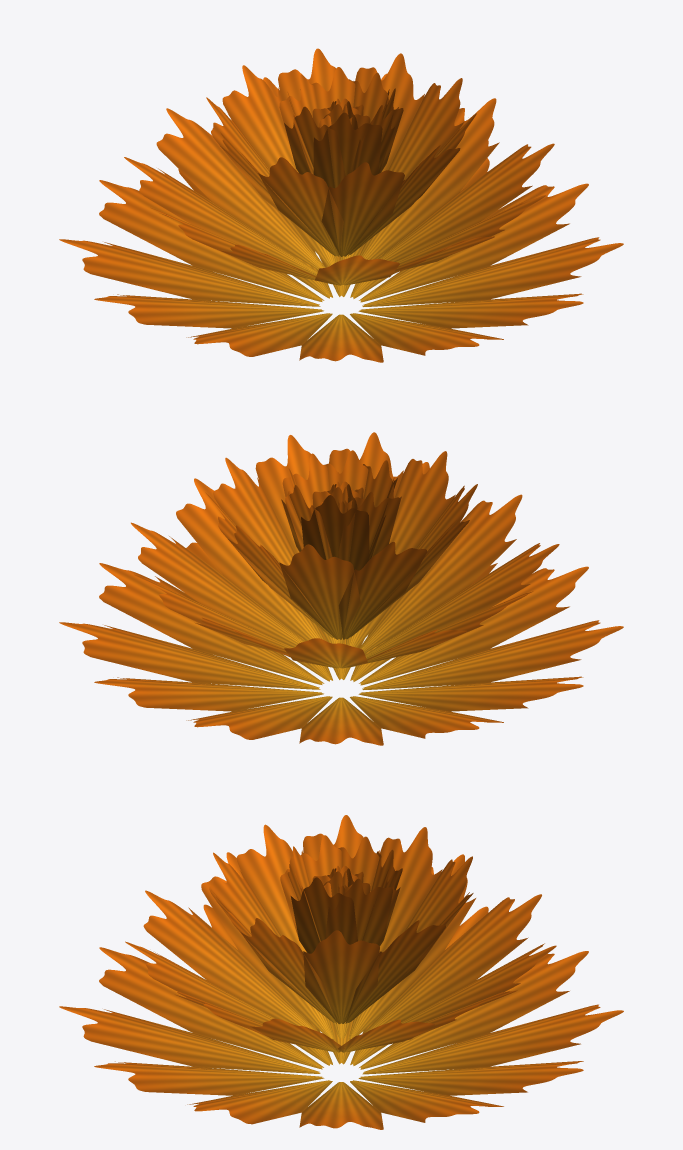
File: cempasuchil.obj
3 renders of one model, top to bottom at view 1: azimuth 30°, elevation 25°; view 2: azimuth 150°, elevation 25°; view 3: azimuth 270°, elevation 25°, orthographic.
Parts seen in each view (by area): view 1: Cempasuchil; view 2: Cempasuchil; view 3: Cempasuchil.
Part boxes in pixels (x1,y1,x2,y2): Cempasuchil: (59, 48, 623, 362); Cempasuchil: (59, 432, 623, 745); Cempasuchil: (59, 815, 623, 1129).
Bounding box in the file's own units: 1.02 × 0.4223 × 1.02.
